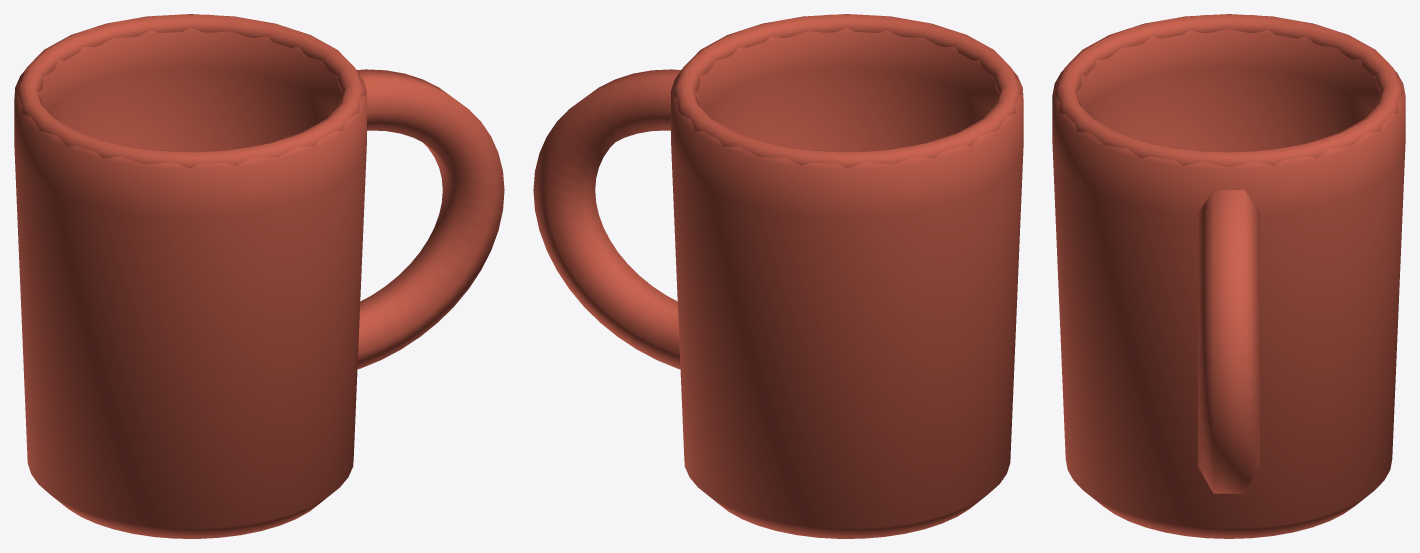
The model's file is tableware_cup.glb.
3 renders of one model, left to right at view 1: azimuth 30°, elevation 25°; view 2: azimuth 150°, elevation 25°; view 3: azimuth 270°, elevation 25°, orthographic.
Parts seen in each view (by area): view 1: Open mug, Mug handle, Cup rounded lip; view 2: Open mug, Mug handle, Cup rounded lip; view 3: Open mug, Mug handle, Cup rounded lip.
Part boxes in pixels (<box>): Open mug: <box>14,14,366,538</box>; Mug handle: <box>357,69,504,369</box>; Cup rounded lip: <box>15,14,365,168</box>; Open mug: <box>671,14,1023,538</box>; Mug handle: <box>533,69,680,369</box>; Cup rounded lip: <box>672,14,1022,168</box>; Open mug: <box>1052,14,1405,538</box>; Mug handle: <box>1198,189,1259,493</box>; Cup rounded lip: <box>1054,14,1403,166</box>.
Size of the model in its own units: 0.1201 by 0.099 by 0.08.
